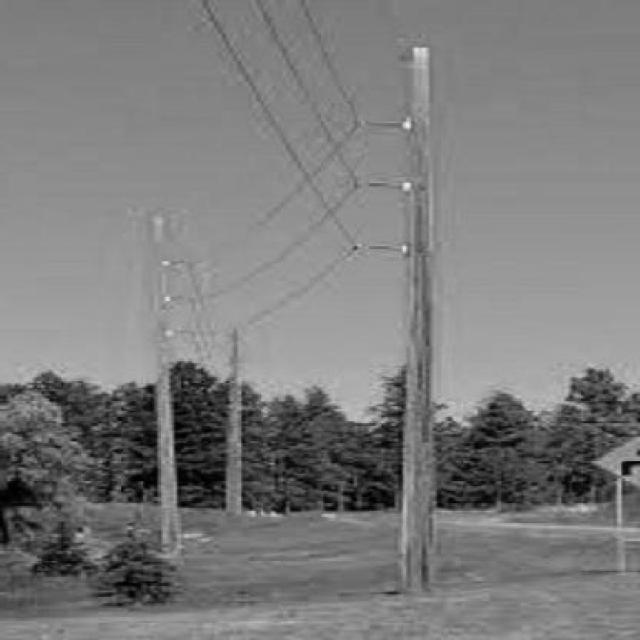Pole: (399, 46, 436, 592), (150, 214, 181, 553), (225, 329, 240, 516)
